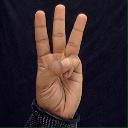hand: (33, 3, 87, 119)
